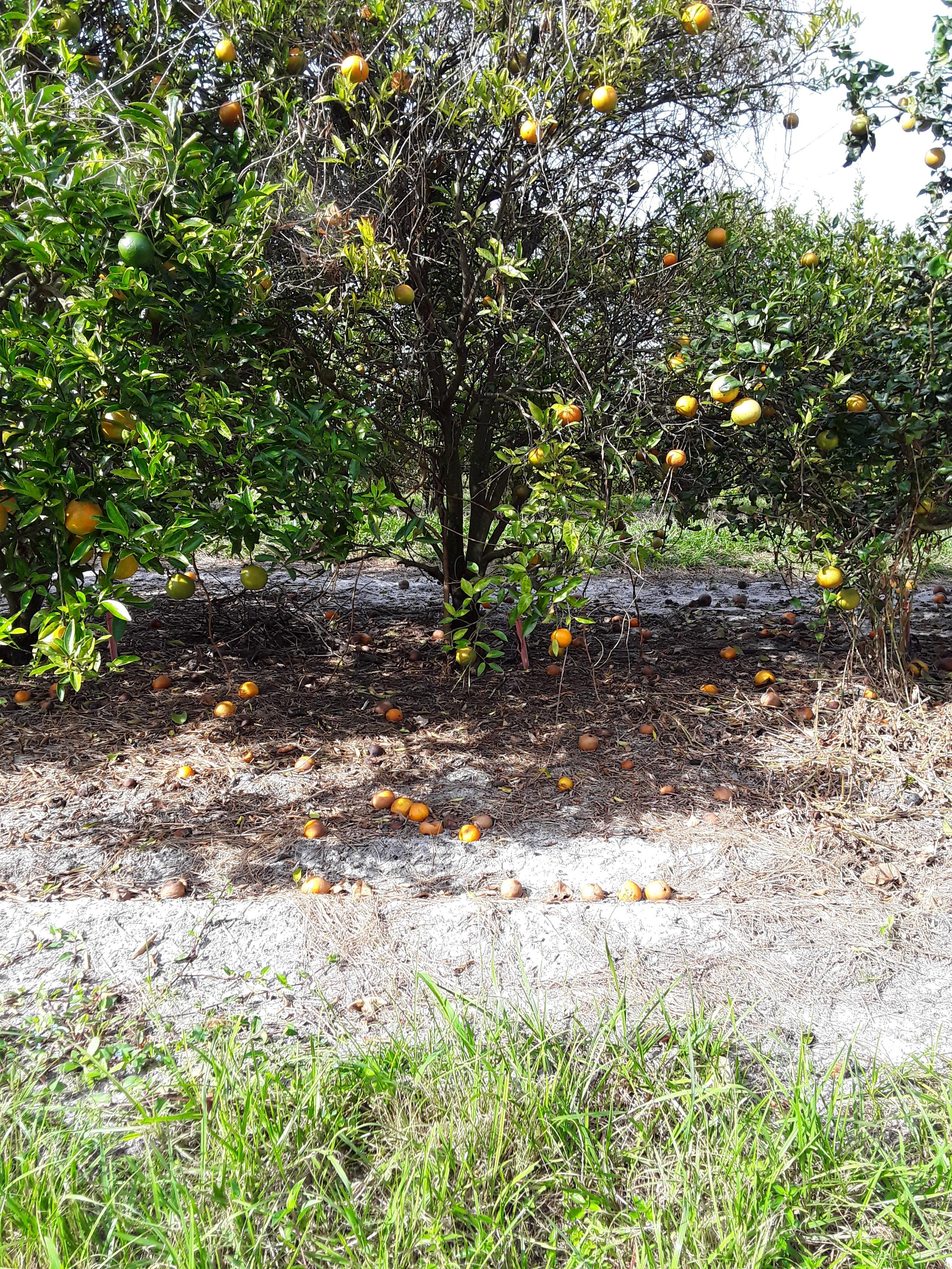fruit_on_ground: (115, 229, 157, 270), (97, 406, 140, 444), (62, 498, 104, 536), (94, 264, 134, 302), (39, 616, 77, 655), (101, 549, 140, 582), (678, 1, 714, 36), (163, 568, 198, 602), (48, 5, 84, 37), (64, 533, 99, 564), (383, 67, 418, 97), (338, 52, 370, 84), (238, 560, 271, 591), (589, 83, 620, 114), (730, 397, 762, 427), (708, 374, 741, 403), (215, 98, 245, 129), (242, 263, 274, 292), (313, 204, 346, 232), (147, 69, 178, 98), (282, 45, 311, 76), (76, 48, 105, 77), (815, 563, 845, 590), (156, 255, 184, 282), (833, 584, 861, 611), (555, 401, 584, 427), (212, 36, 238, 64), (517, 117, 543, 145), (816, 426, 842, 453), (922, 143, 948, 169), (847, 110, 872, 137), (453, 643, 479, 668), (392, 281, 418, 306), (844, 390, 870, 415), (505, 50, 530, 75), (664, 355, 689, 380), (895, 108, 920, 133), (674, 393, 699, 418), (704, 225, 729, 250), (540, 114, 564, 139), (0, 486, 19, 516), (914, 494, 938, 517), (550, 626, 574, 649), (354, 2, 380, 23), (315, 363, 337, 386), (526, 445, 548, 468), (665, 447, 688, 469), (798, 248, 821, 269), (575, 84, 595, 108), (781, 108, 802, 130), (630, 444, 653, 464), (511, 481, 532, 502), (523, 548, 544, 568), (761, 400, 781, 420), (674, 332, 695, 350), (546, 642, 567, 659), (699, 147, 717, 165), (611, 517, 629, 534), (661, 250, 679, 267), (0, 504, 10, 533), (616, 531, 634, 546), (649, 535, 666, 550), (626, 177, 641, 192), (480, 294, 495, 309), (651, 526, 666, 540)
fruit_on_tree: (642, 876, 672, 904), (299, 874, 332, 896), (579, 880, 606, 904), (301, 818, 329, 841), (499, 877, 524, 902), (617, 879, 642, 903), (903, 657, 930, 679), (160, 879, 187, 901), (370, 789, 396, 811), (390, 794, 414, 816), (211, 697, 236, 718), (236, 678, 261, 699), (791, 704, 816, 724), (470, 810, 495, 830), (418, 817, 444, 836), (458, 822, 481, 843), (753, 668, 777, 688), (758, 690, 783, 709), (45, 679, 67, 700), (294, 753, 317, 773), (577, 731, 600, 751), (712, 784, 734, 804), (409, 801, 429, 821), (151, 671, 172, 690), (12, 687, 32, 704), (718, 644, 738, 661), (175, 763, 195, 780), (384, 706, 404, 723), (350, 630, 371, 646), (556, 774, 574, 791), (405, 647, 424, 663), (429, 626, 448, 642), (637, 721, 656, 737), (937, 654, 952, 673), (369, 742, 386, 758), (696, 591, 713, 607), (731, 591, 749, 606), (544, 661, 562, 676), (932, 590, 948, 606), (861, 686, 878, 701), (779, 609, 796, 624), (700, 681, 718, 695), (180, 570, 199, 583), (869, 625, 885, 640), (374, 697, 391, 711), (659, 781, 675, 795), (626, 614, 642, 628), (902, 577, 917, 591), (479, 596, 494, 610), (396, 577, 411, 591), (639, 627, 654, 641), (620, 757, 635, 771), (608, 614, 624, 627), (639, 663, 655, 676), (323, 608, 339, 621), (121, 776, 136, 789), (734, 579, 748, 591), (149, 617, 163, 629), (825, 699, 840, 710), (897, 584, 910, 596), (760, 626, 773, 638)
